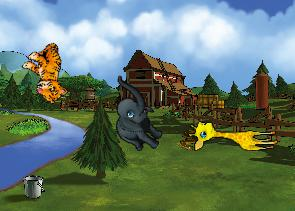elephant: (91, 74, 179, 158)
giraffe: (188, 119, 278, 151)
tiger: (15, 37, 83, 107)
